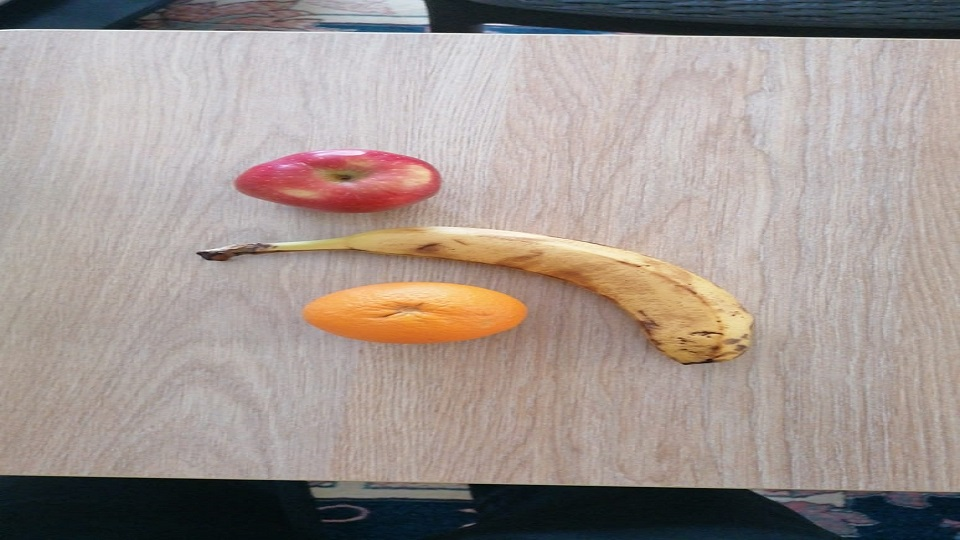elma: (234, 149, 445, 213)
muz: (196, 226, 755, 364)
portakal: (302, 281, 530, 345)
